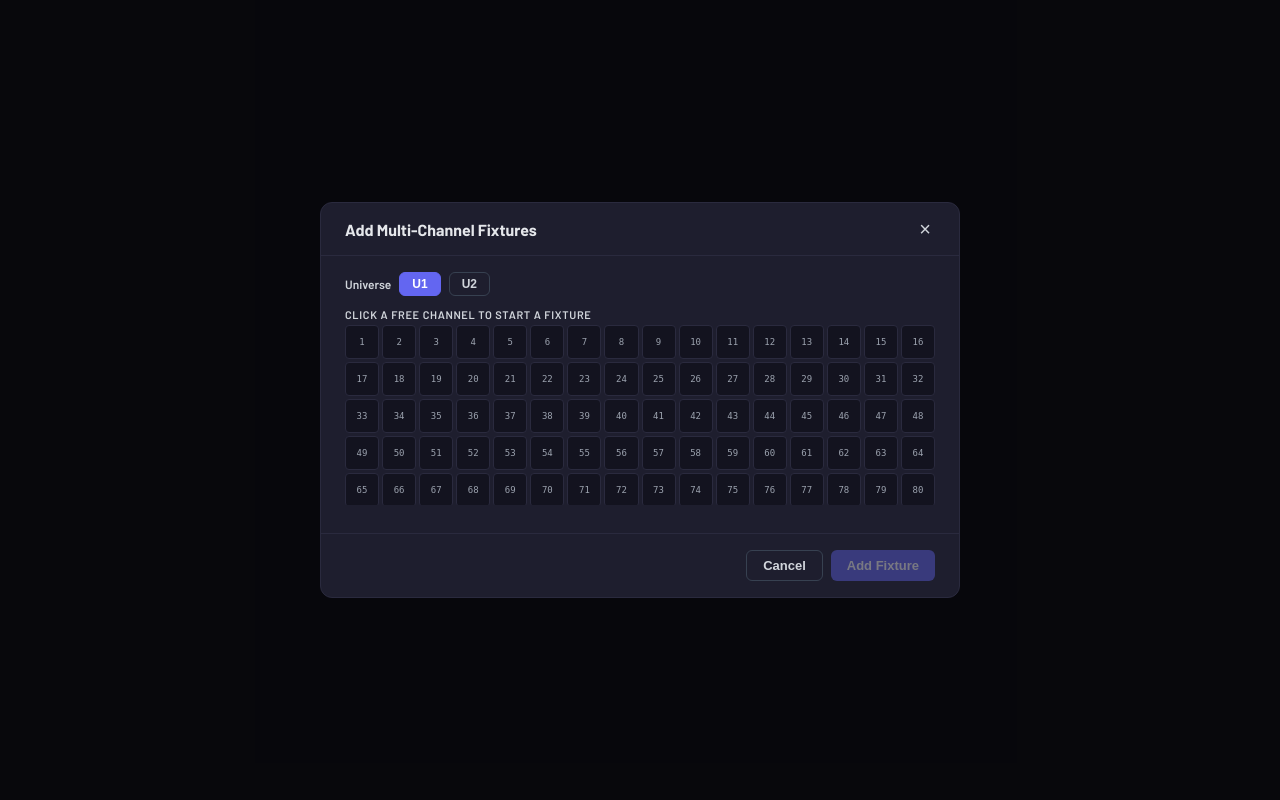
Test: AddMultiChannelFixturesModal › clicking a free cell creates a new draft card
The width and height of the screenshot is (1280, 800).
Click the text titled "Channel 5". click: coordinates (510, 342)
box: [493,325,527,359]
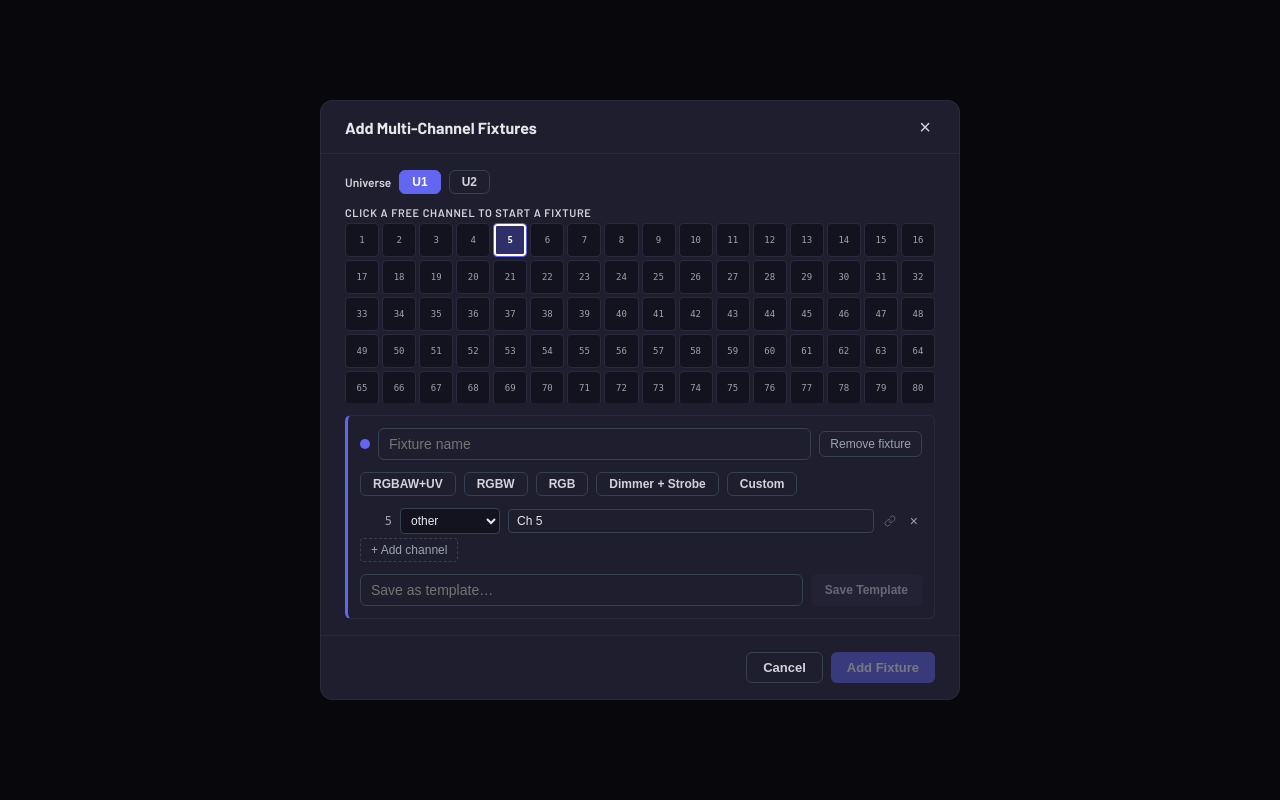
Check: the field with placeholder "Fixture name" is shown, box [378,428,811,460]
Check: the text titled "Channel 5 — click to remove" in the row of "10" is shown, box [493,223,527,257]
